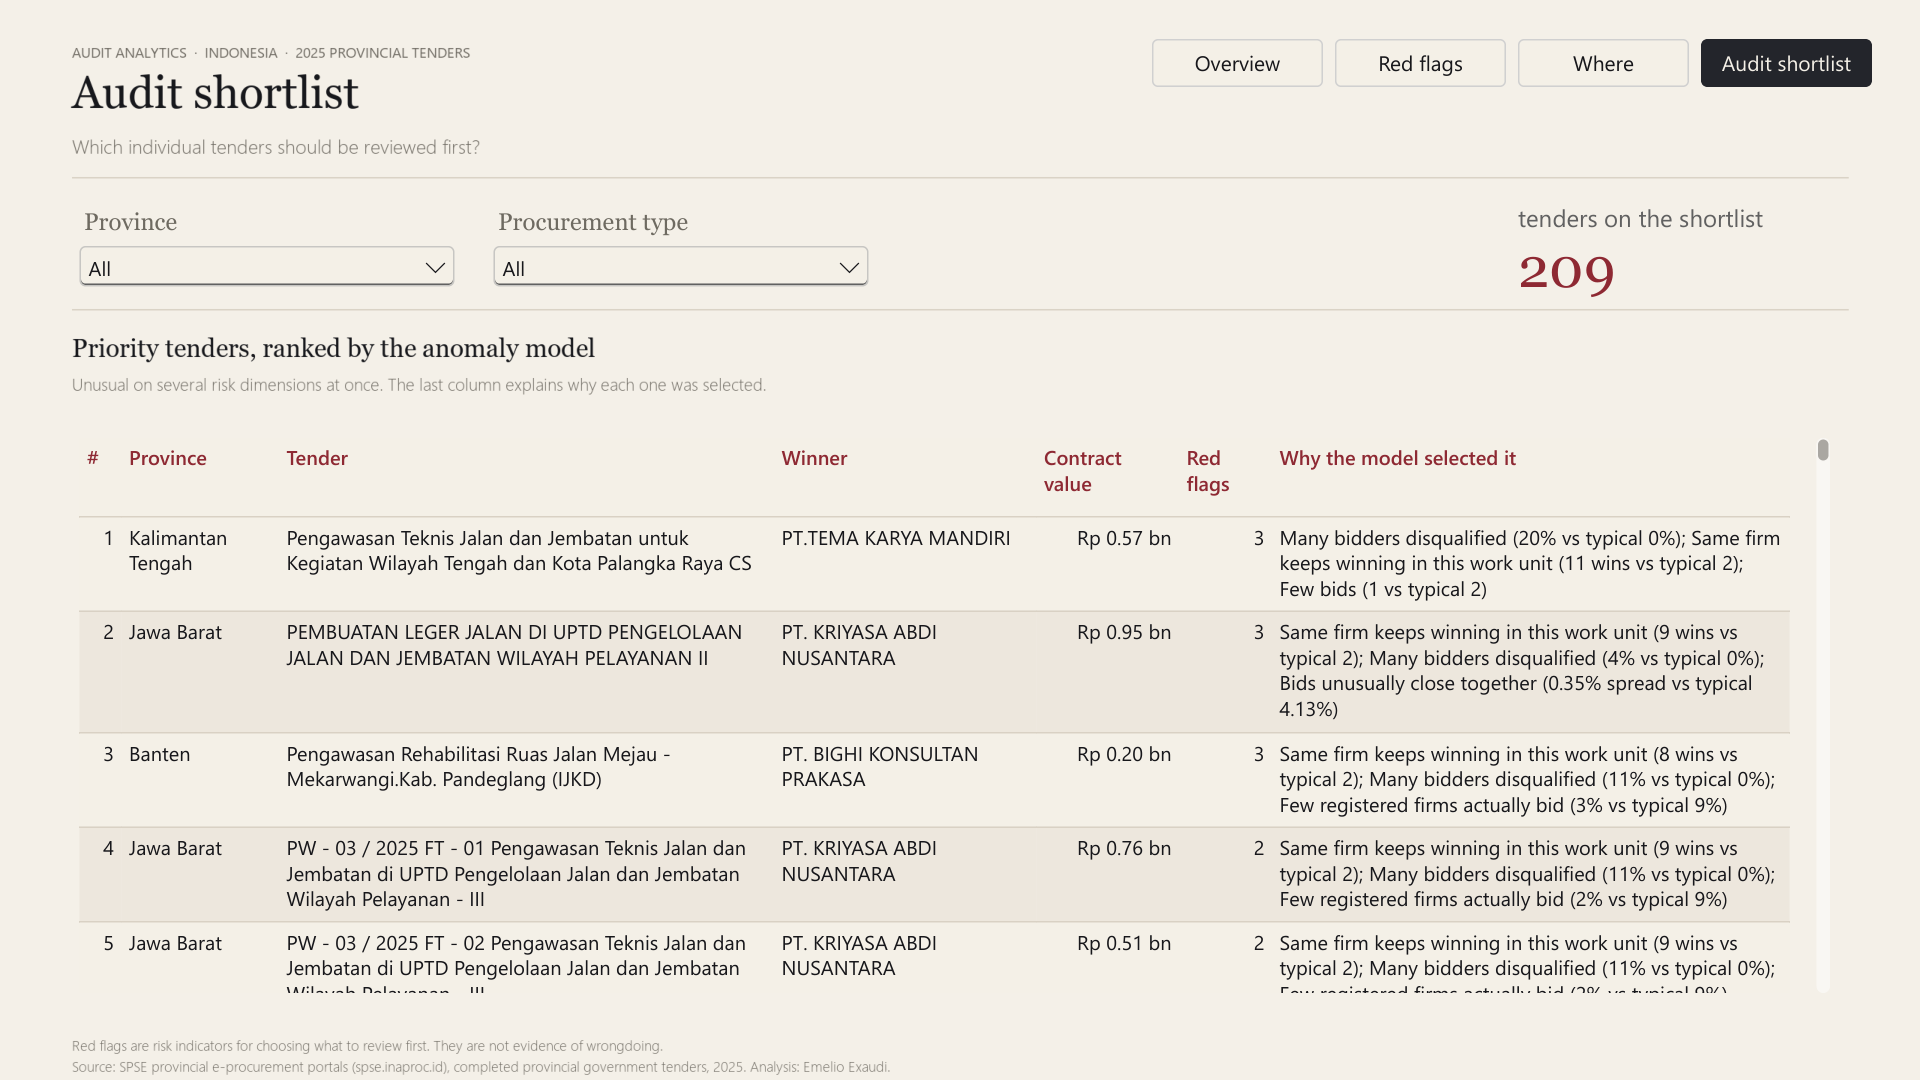

What the dashboard file says about the page in this screenshot:
{"tool":"powerbi","page":{"name":"Audit shortlist","canvas":[1280,720],"ordinal":3},"visuals":[{"type":"tableEx","fields":{"Values":["priority.priority_rank","priority.province","priority.tender_name","priority.winner_name","flags.Priority Value","priority.risk_score","priority.reason"]},"box":[36,278,1200,400],"z":0},{"type":"slicer","fields":{"Values":["tenders.province"]},"box":[48,138,260,58],"z":1},{"type":"slicer","fields":{"Values":["tenders.family"]},"box":[324,138,260,58],"z":2},{"type":"cardVisual","fields":{"Data":["flags.Shortlist Count"]},"box":[996,134,240,66],"z":3},{"type":"pageNavigator","box":[768,26,480,32],"z":4}]}

Visuals, with their boxes in screenshot pixels (x1, y1, x2, y2), scaled from the page's 1280x720 canvas onto the 1920x1080 screenshot:
tableEx - priority.priority_rank x priority.province: box(54, 417, 1854, 1017)
slicer - tenders.province: box(72, 207, 462, 294)
slicer - tenders.family: box(486, 207, 876, 294)
cardVisual - flags.Shortlist Count: box(1494, 201, 1854, 300)
pageNavigator: box(1152, 39, 1872, 87)
